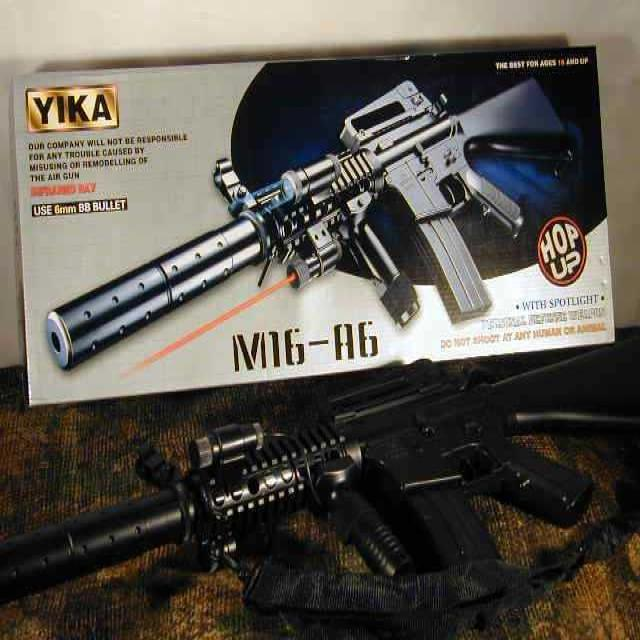Rifle: (31, 358, 635, 627)
